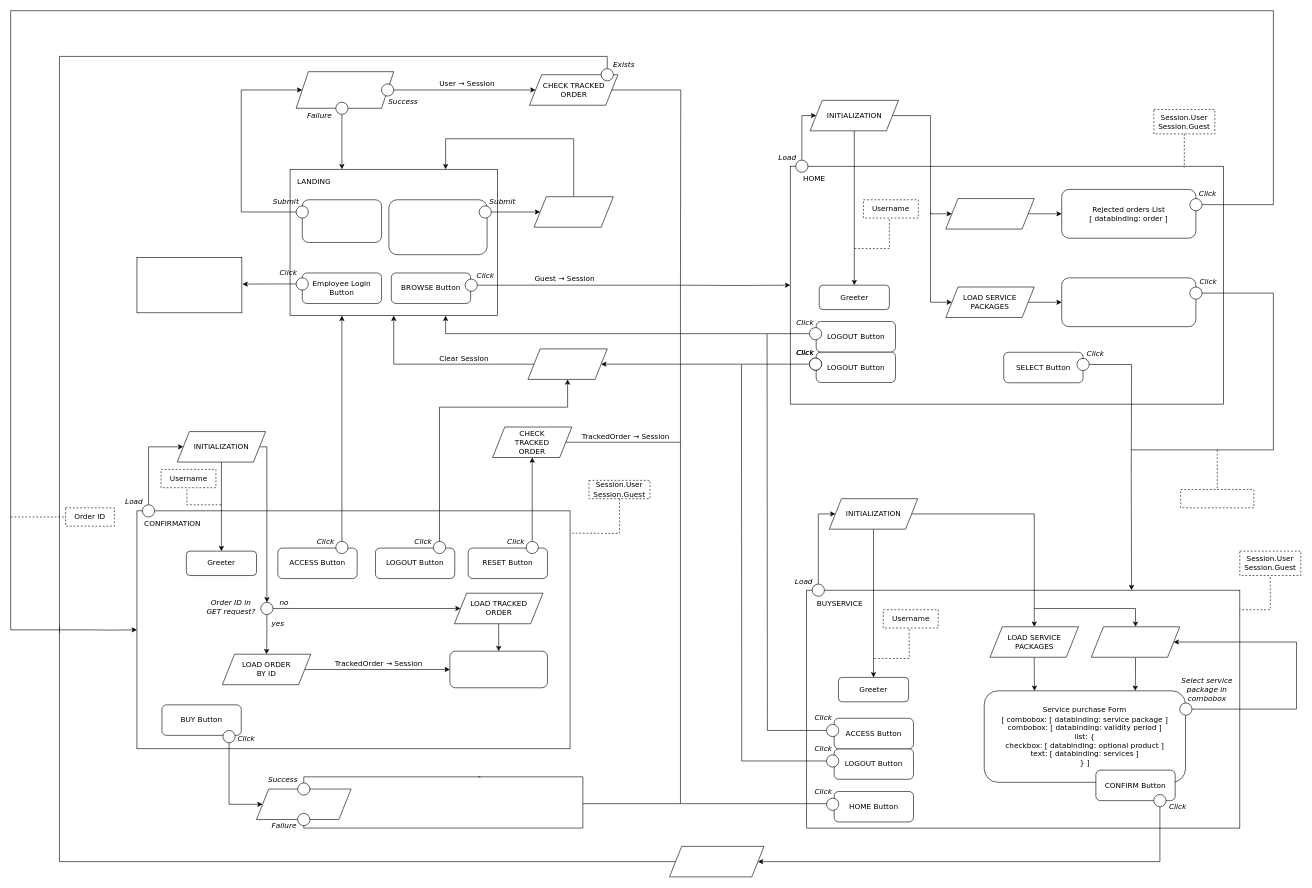
The diagram is 1312 pixels wide and 888 high, and some of its shapes have lost their labels. Here are the shapes that lost their labels. From the top down, the box of each, then its label:
(296, 71, 394, 108): CHECK LOGIN
(302, 199, 382, 242): LOGIN Form [ field: username field: password ]
(388, 199, 487, 255): REGISTRATION Form [ field: username field: email field: password ]
(533, 196, 613, 227): REGISTER USER
(945, 198, 1034, 229): LOAD REJECTED ORDERS BY USER
(136, 257, 242, 313): EMPLOYEE LANDING PAGE
(1061, 277, 1196, 327): Service Packages List [ databinding: service package ]
(527, 348, 607, 379): LOGOUT
(1180, 489, 1254, 508): Service package ID
(1091, 626, 1180, 657): LOAD PACKAGE BY ID
(449, 651, 547, 688): Summary [ databinding: order ]
(256, 788, 351, 820): PAYMENT
(669, 846, 764, 877): ORDER CREATION
